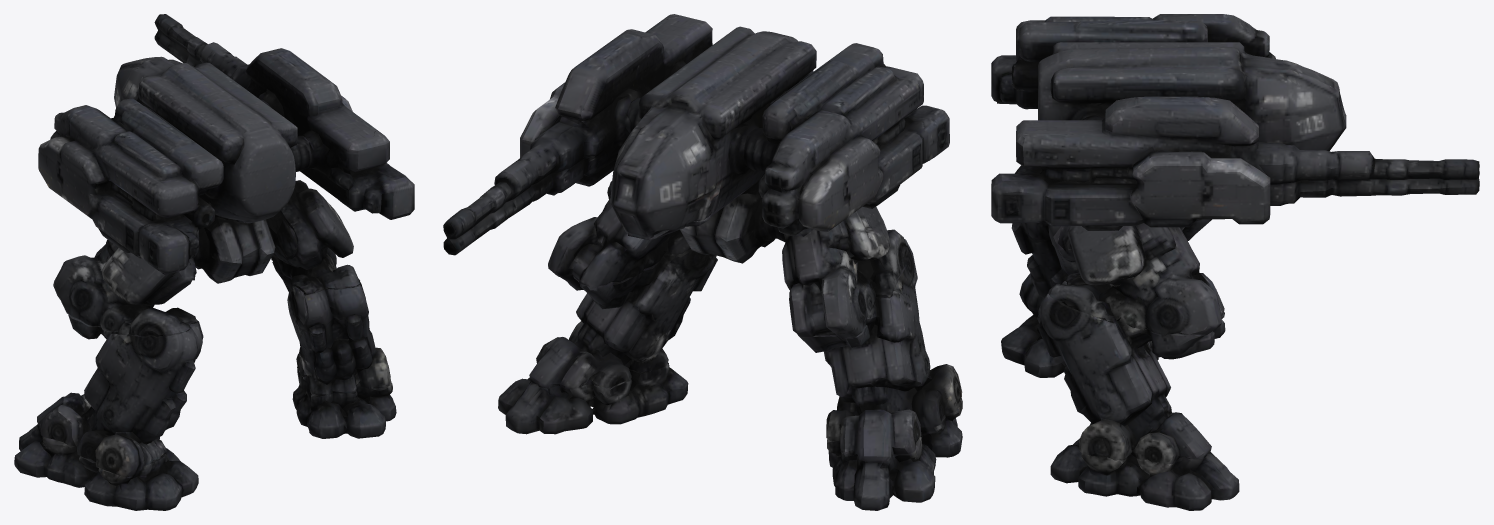
Rendered from hero_art1.glb.
The picture shows the model from 3 angles, left to right: view 1: azimuth 30°, elevation 25°; view 2: azimuth 150°, elevation 25°; view 3: azimuth 270°, elevation 25°; orthographic projection. The views are drawn at different scales.
Visible parts, largest first — view 1: hull, weapon_r, shin_l, thigh_l, shin_r, foot_l, thigh_r, pelvis, foot_r; view 2: hull, weapon_r, shin_l, shin_r, thigh_l, foot_r, foot_l, thigh_r, pelvis; view 3: weapon_r, hull, shin_r, thigh_r, foot_r, shin_l, foot_l.
Part boxes in pixels (x1,y1,x2,y2): hull: (38,56,311,273); weapon_r: (154,14,414,219); shin_l: (37,269,202,476); thigh_l: (53,228,196,336); shin_r: (272,261,391,395); foot_l: (14,424,198,510); thigh_r: (271,180,359,293); pelvis: (189,211,307,339); foot_r: (292,365,396,438); hull: (610,26,949,238); weapon_r: (443,14,712,255); shin_l: (797,160,962,462); shin_r: (529,248,717,389); thigh_l: (782,172,915,338); foot_r: (498,362,688,434); foot_l: (827,398,962,510); thigh_r: (548,181,690,286); pelvis: (628,179,785,263); weapon_r: (991,96,1479,227); hull: (991,14,1346,151); shin_r: (1037,281,1224,464); thigh_r: (1048,223,1224,334); foot_r: (1050,438,1239,510); shin_l: (997,102,1211,316); foot_l: (1001,306,1225,377).
Bounding box in the file's own units: 4.92 × 4.3 × 5.16.
Materials: 1 (1 with a texture image).
